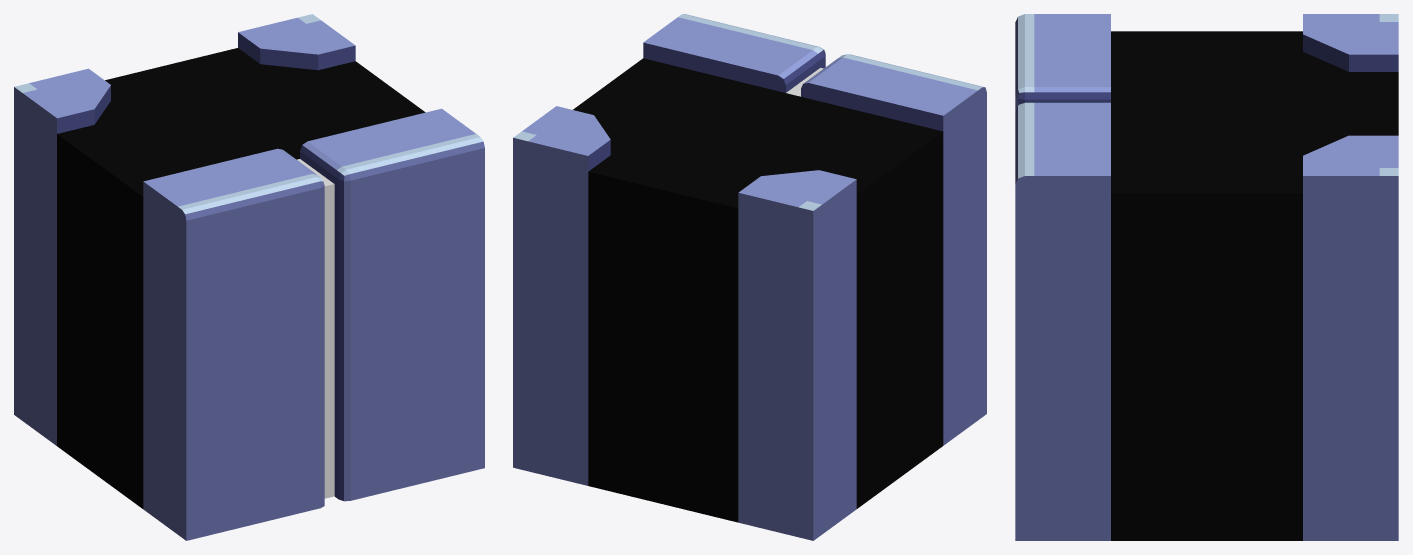
Rendered from UFO_Wall_Corner_Y.fbx.
The picture shows the model from 3 angles, left to right: view 1: azimuth 30°, elevation 25°; view 2: azimuth 150°, elevation 25°; view 3: azimuth 270°, elevation 25°; orthographic projection. The views are drawn at different scales.
Visible parts, largest first — view 1: Cube.011; view 2: Cube.011; view 3: Cube.011.
Boxes of the visible parts, x1,y1,x2,y2 form: Cube.011: (14, 14, 484, 540); Cube.011: (513, 14, 986, 540); Cube.011: (1015, 14, 1398, 540).
Bounding box in the file's own units: 2 × 2.1 × 2.
